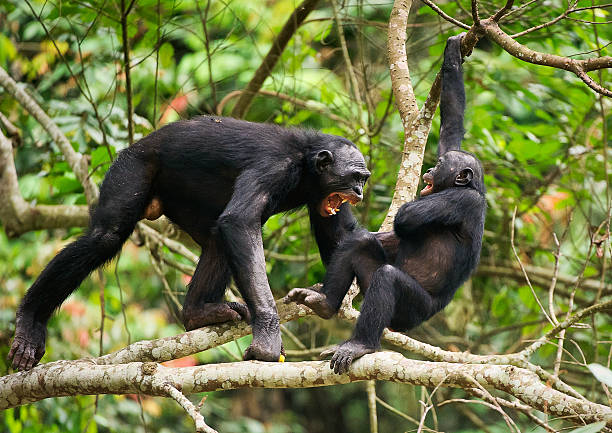chimpanzee: (311, 123, 373, 232)
